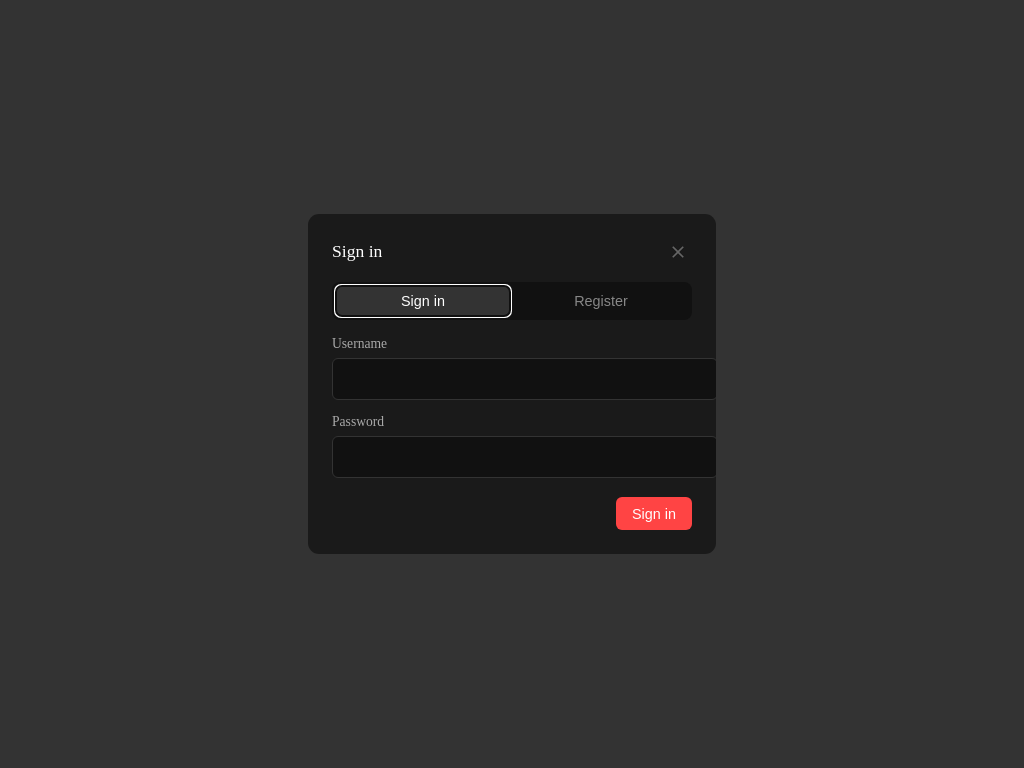
AuthModal – register › switches between the tabs
Click the tab "Register" at x=601, y=301, box [514,286,688,316]
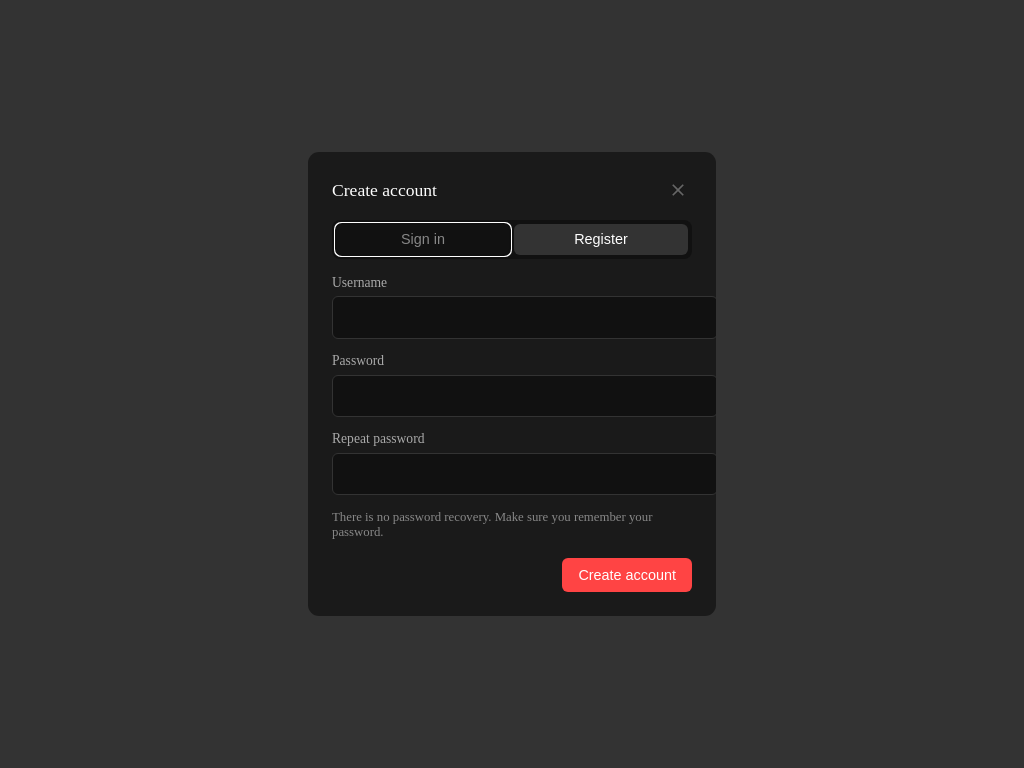
expect the password field labelled "Repeat password" is shown: met, box [332,453,717,495]
Click the tab "Sign in" at x=423, y=240, box [336,224,510,255]
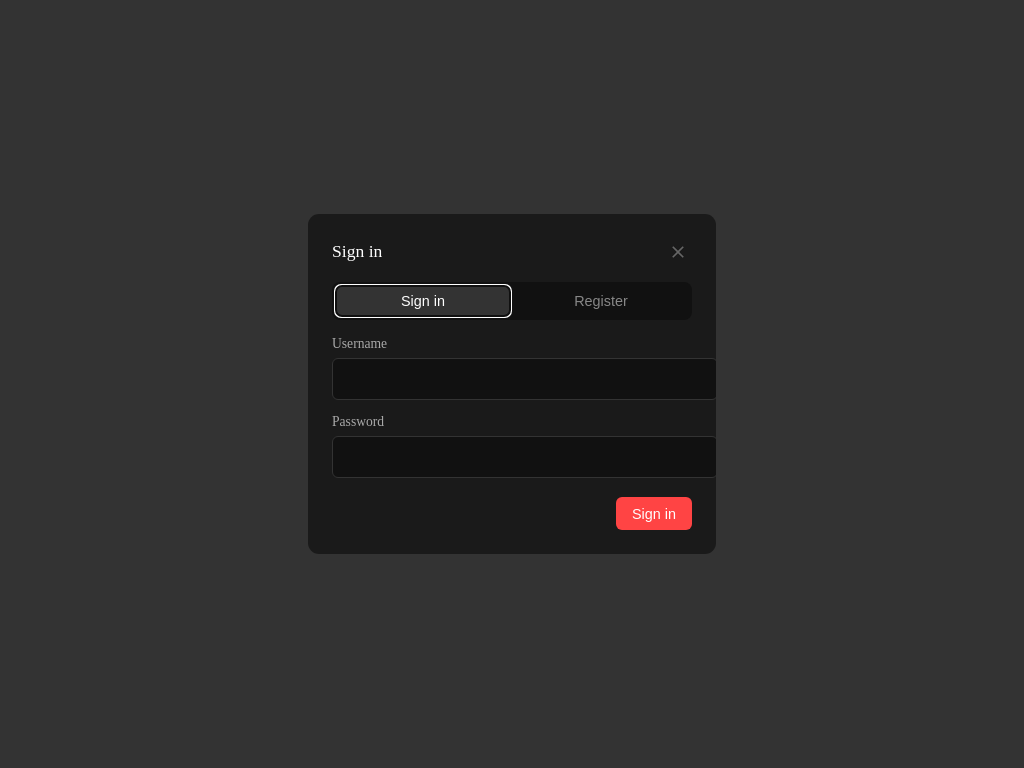
expect the label labelled "Repeat password" is gone: met
